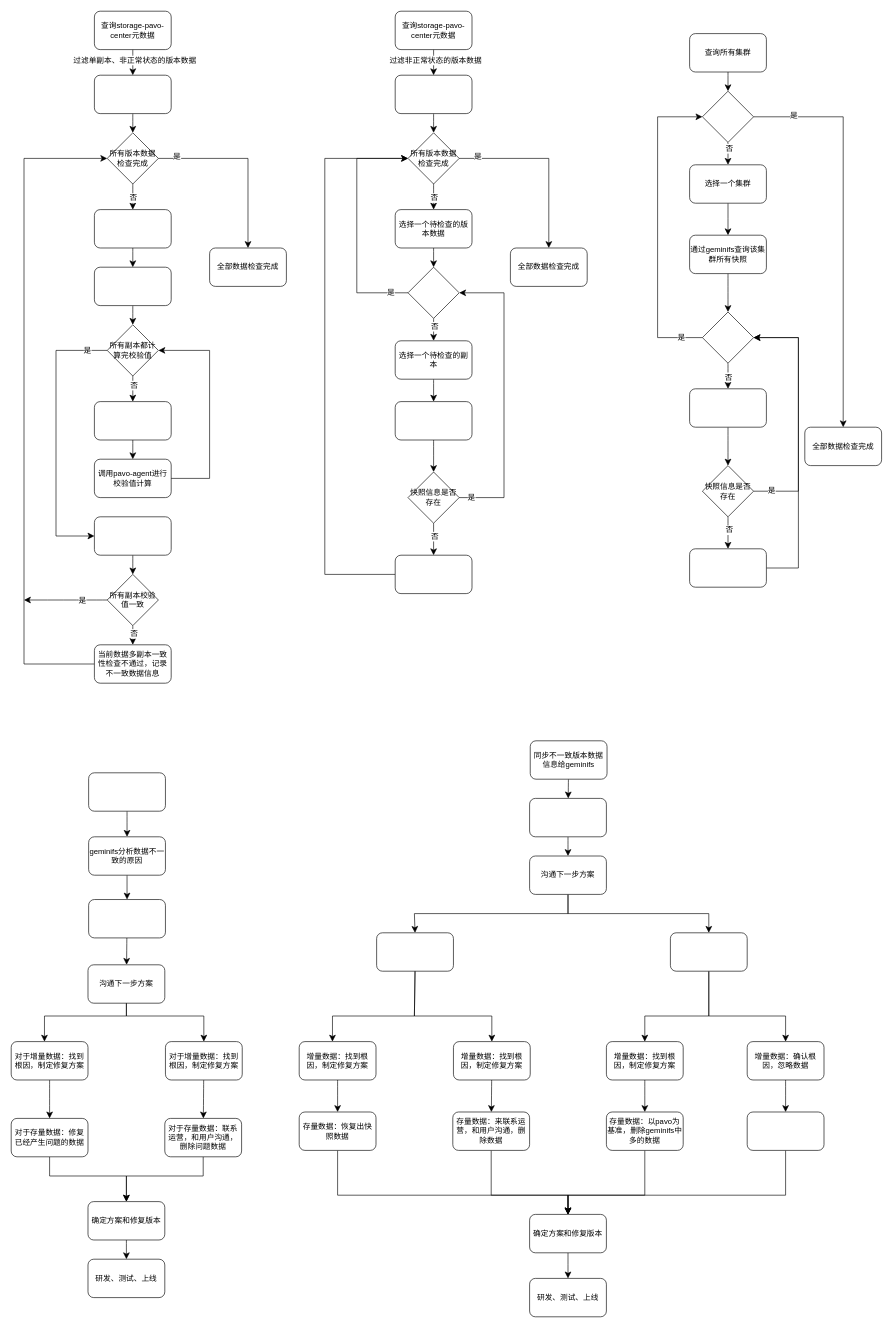
Some shapes in this 893 by 1328 pixel diagram are drawn without their labels. Each missing label, with the centre of its shape:
pavo-center中比较所有副本的校验值: (132,535)
同步不一致版本数据和具体文件/文件夹信息给geminifs: (126,791)
和一起geminifs分析快照不一致的原因: (567,817)
如有必要，查询比对该版本数据所有不一致的文件/文件夹，以便分析: (126,918)
存量数据：确认根因，忽略数据: (785,1130)
对于pavo无，geminifs有的数据: (708,951)
对于pavo有，geminifs无的快照: (414,951)
当前快照和pavo一致检查不通过，记录数据信息: (727,567)
当前数据和geminifs一致检查不通过，记录数据信息: (433,574)
所有副本检查完成: (433,292)
所有快照数据检查完成: (728,337)
所有集群数据检查完成: (728,116)
查询当前副本所在集群的快照信息: (433,420)
校验多副本的状态: (132,286)
获得有效且多副本版本数据: (132,94)
获得有效版本数据: (433,94)
调用storage-pavo-center查询快照信息: (727,407)
选择一个待检查的多副本版本数据: (132,228)
选择一个没有计算校验值的副本: (132,420)
